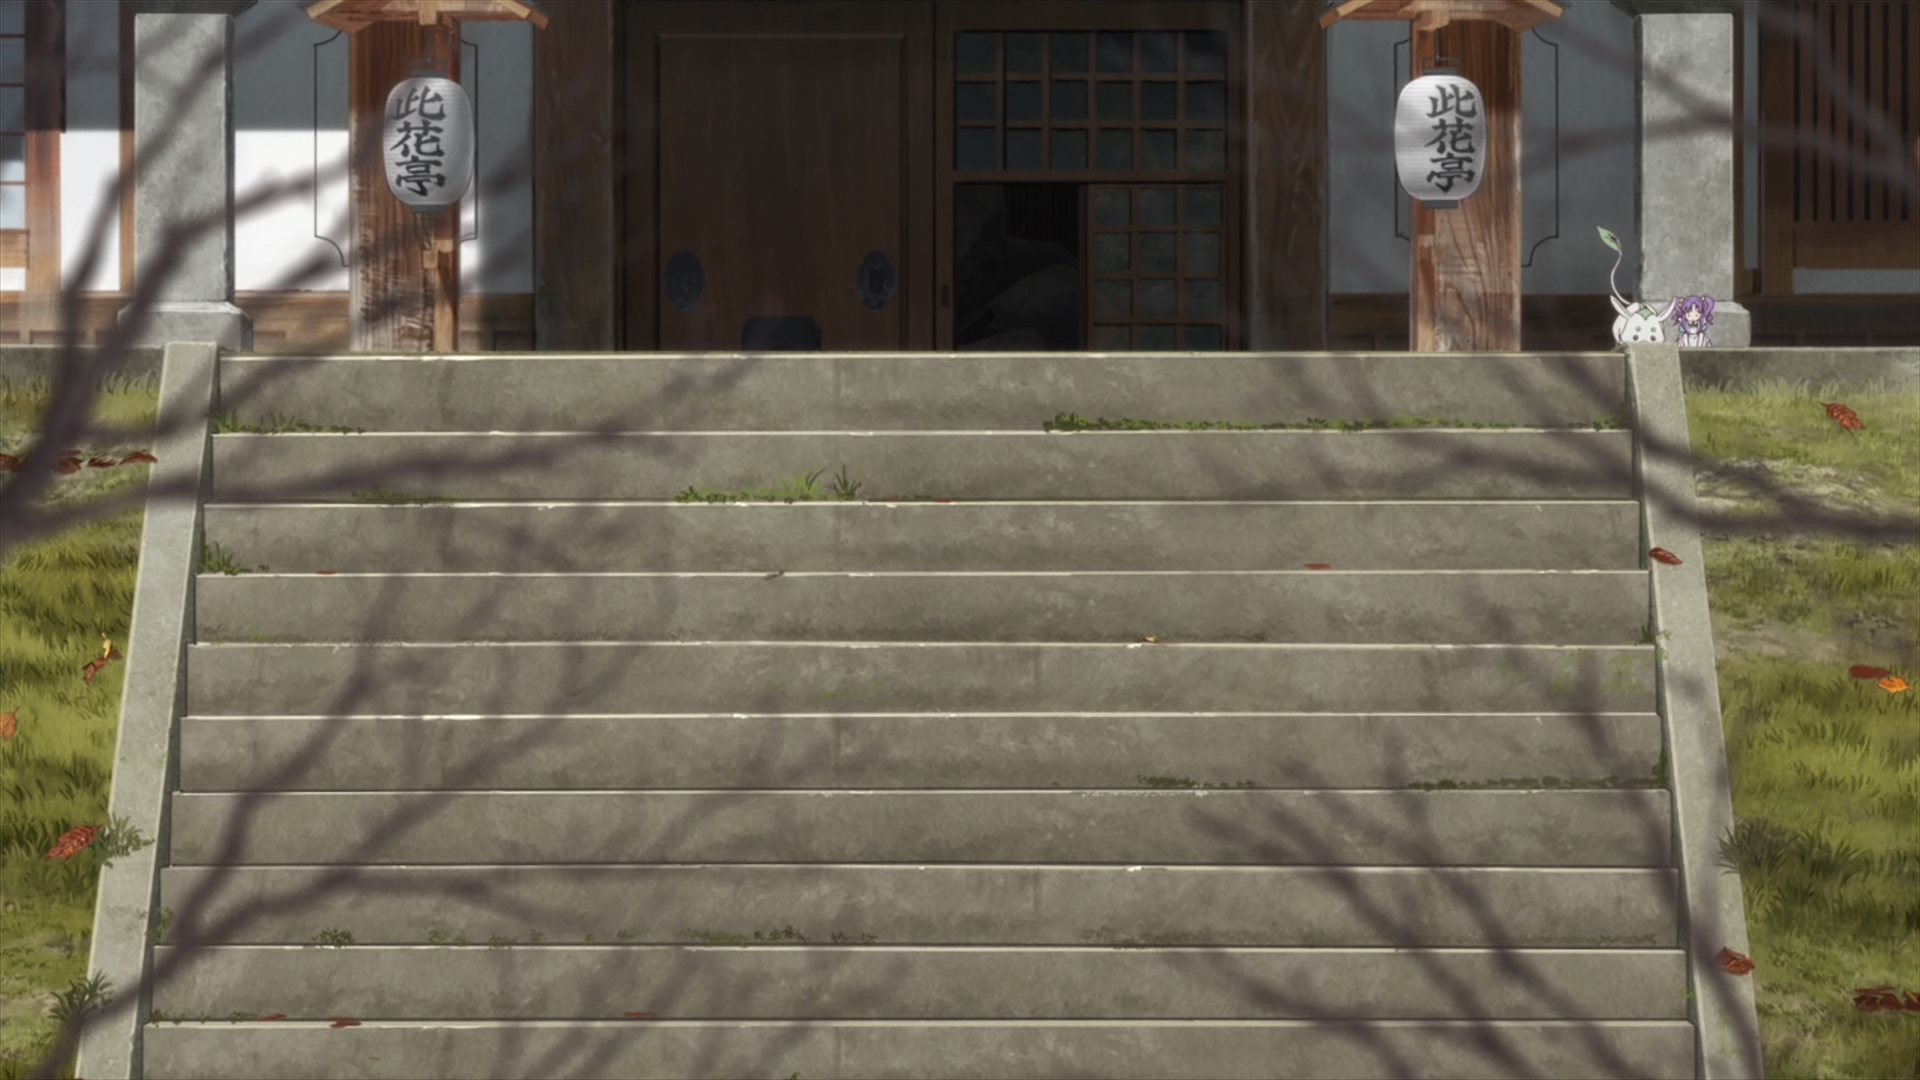瓜之介: (1592, 225, 1675, 345)
阿菊: (1673, 293, 1716, 345)
